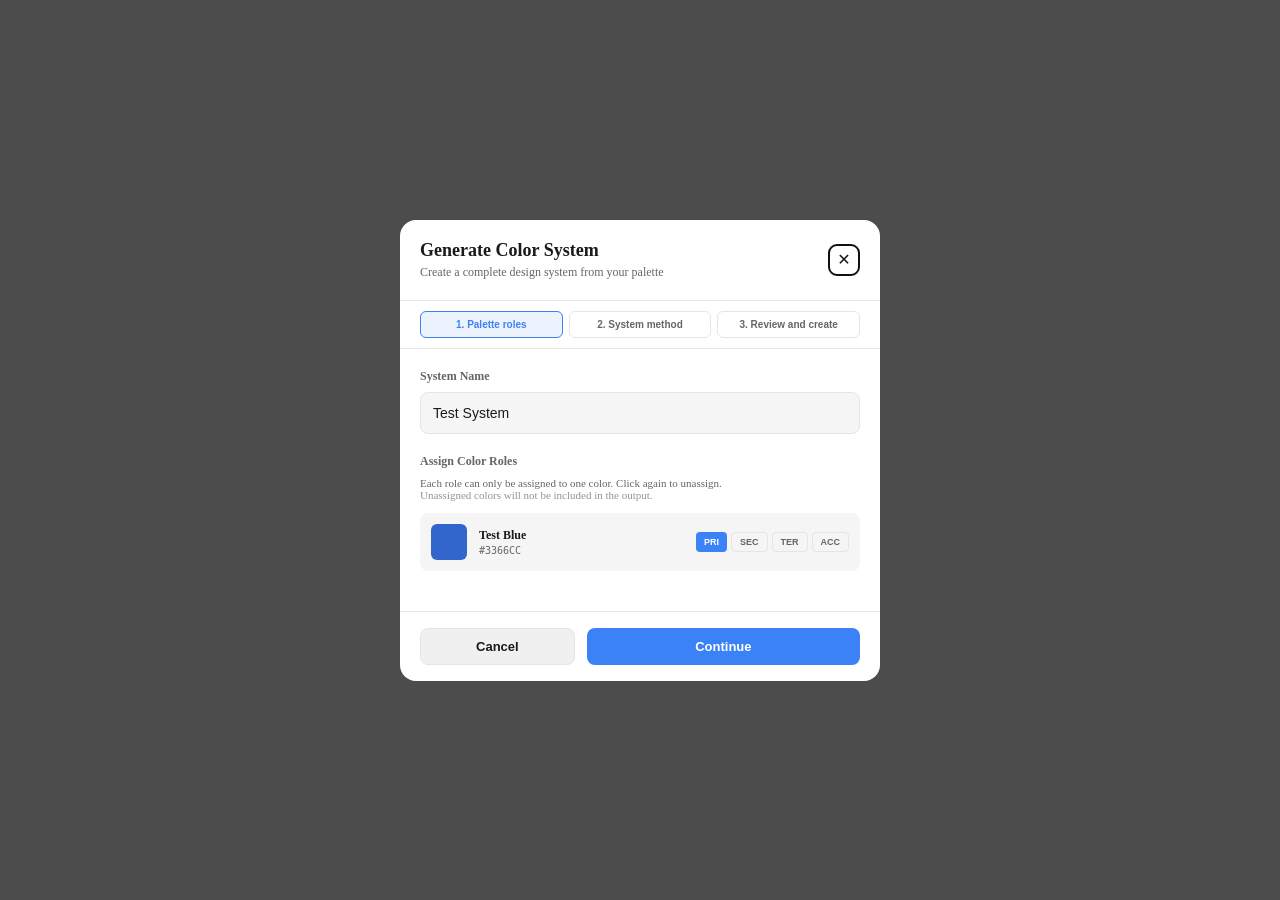
ColorSystemModal submission › presents three distinct generation modes with accurate claims
Step 1. Click the button "Continue" → (723, 646), box top-left (587, 628), bottom-right (860, 664)
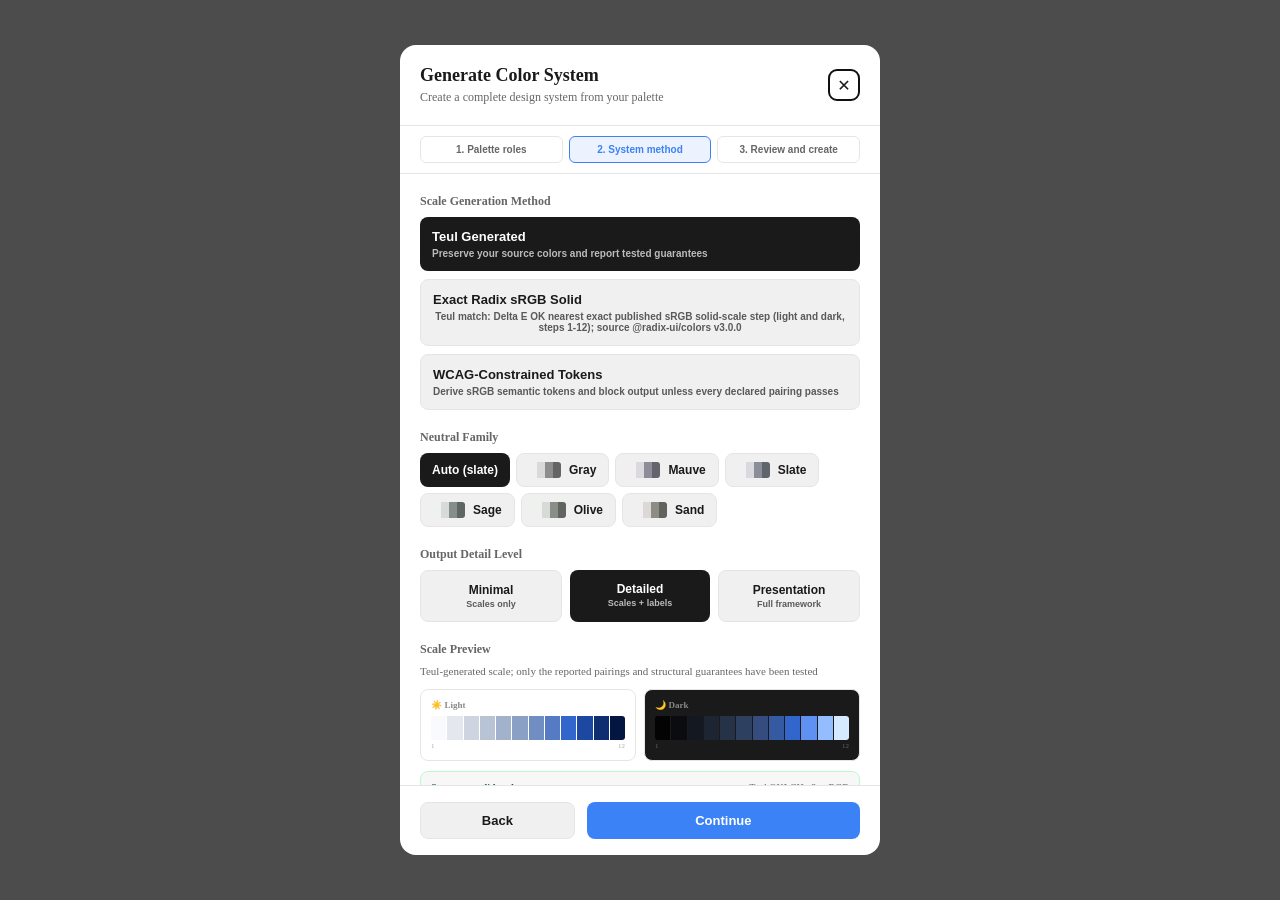
Now the button that starts with "Teul Generated" is shown, box top-left (420, 217), bottom-right (860, 271)
Now the button that starts with "Exact Radix sRGB Solid" is shown, box top-left (420, 279), bottom-right (860, 346)
Now the button with aria-label "Create sRGB semantic tokens with blocking pair tests" is shown, box top-left (420, 354), bottom-right (860, 410)
